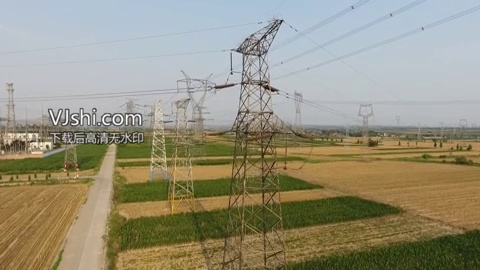tower_body: (216, 18, 293, 270), (172, 68, 216, 141), (150, 98, 170, 182), (356, 100, 377, 138)
tower_foot: (222, 213, 288, 270), (191, 114, 211, 138)
tower_head: (225, 21, 289, 58), (175, 70, 215, 102), (358, 102, 375, 119)
